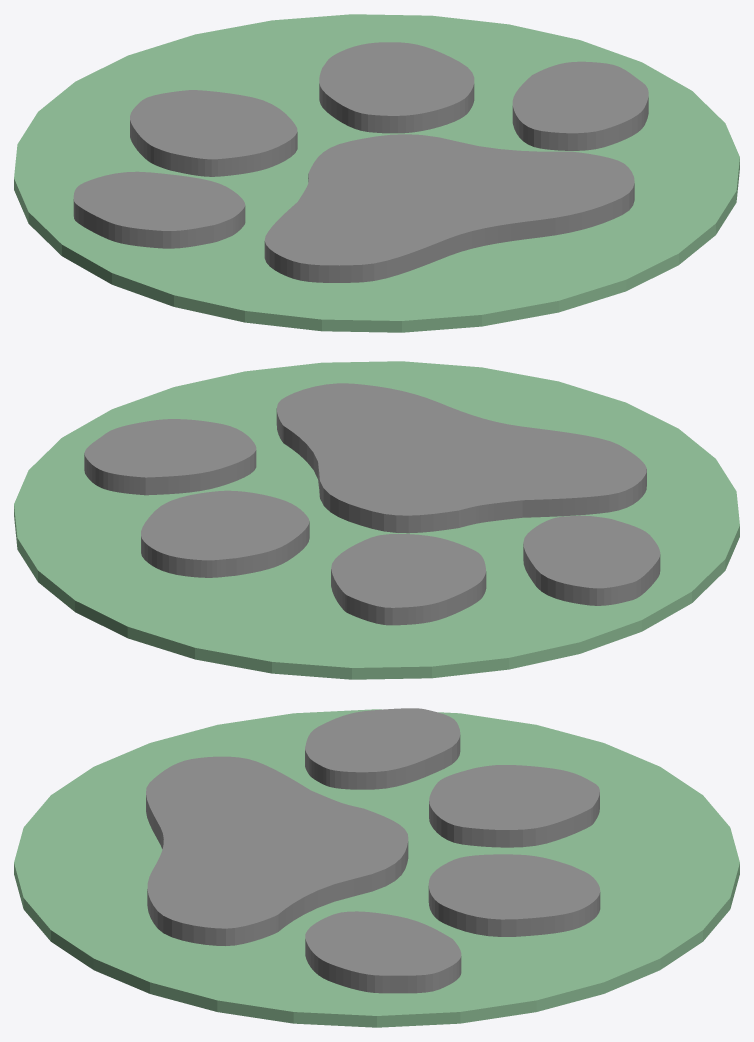
The model's file is Model_PetCarpet.FBX.
3 renders of one model, top to bottom at view 1: azimuth 30°, elevation 25°; view 2: azimuth 150°, elevation 25°; view 3: azimuth 270°, elevation 25°, orthographic.
Visible parts, largest first — view 1: Circle001, Line001, Line004, Line003, Line005, Line002; view 2: Circle001, Line001, Line003, Line004, Line002, Line005; view 3: Circle001, Line001, Line003, Line004, Line002, Line005.
Part boxes in pixels (x1,y1,x2,y2): Circle001: [14, 14, 739, 332]; Line001: [264, 134, 634, 282]; Line004: [130, 90, 297, 176]; Line003: [319, 42, 474, 133]; Line005: [73, 171, 245, 248]; Line002: [512, 61, 648, 150]; Circle001: [14, 361, 739, 679]; Line001: [276, 383, 646, 533]; Line003: [141, 490, 309, 577]; Line004: [331, 533, 486, 625]; Line002: [84, 419, 256, 495]; Line005: [523, 515, 660, 605]; Circle001: [14, 709, 739, 1027]; Line001: [146, 756, 408, 945]; Line003: [428, 854, 600, 936]; Line004: [429, 765, 599, 847]; Line002: [305, 911, 461, 993]; Line005: [305, 708, 460, 789].
Bounding box in the file's own units: 113 × 5.03 × 113.
